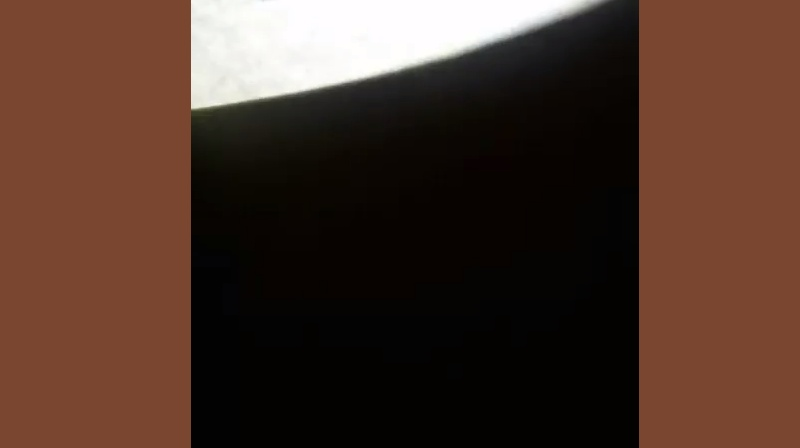O002: (239, 0, 410, 3)
